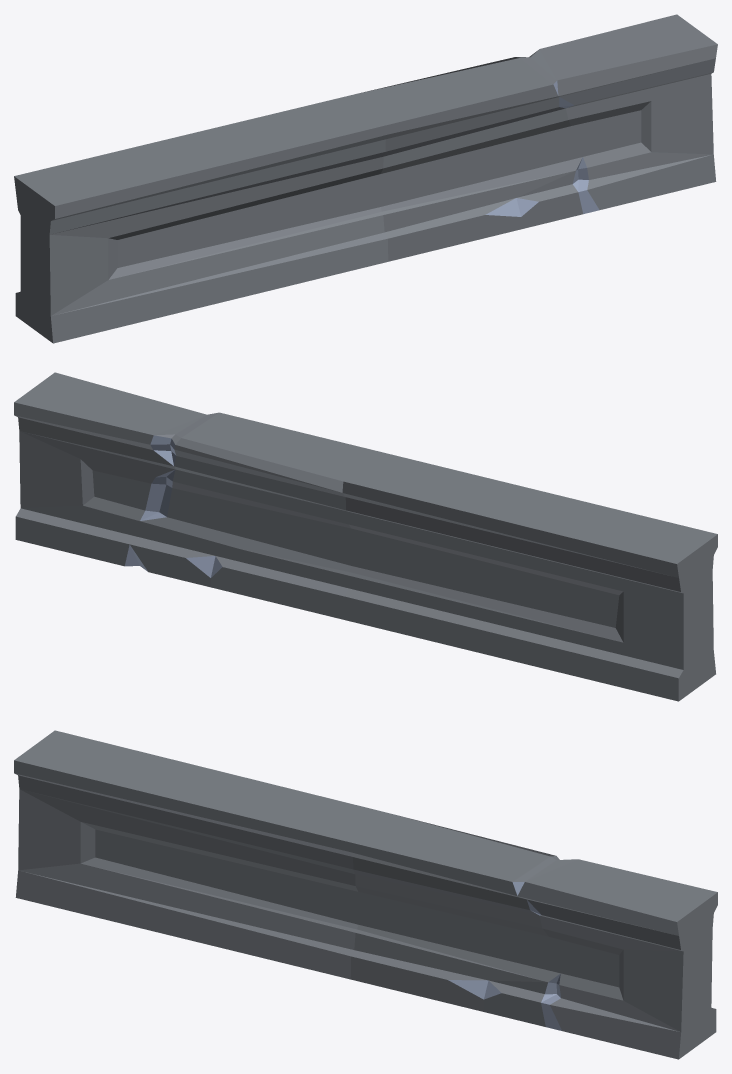
File: wall_02.FBX
The picture shows the model from 3 angles, top to bottom: view 1: azimuth 30°, elevation 25°; view 2: azimuth 150°, elevation 25°; view 3: azimuth 330°, elevation 25°; orthographic projection.
Parts seen in each view (by area): view 1: wall_02; view 2: wall_02; view 3: wall_02.
Boxes of the visible parts, bbox=[...] form: wall_02: bbox=[14, 14, 717, 343]; wall_02: bbox=[14, 372, 717, 701]; wall_02: bbox=[14, 730, 717, 1059].
Size of the model in its own units: 102 by 20.44 by 10.94.
